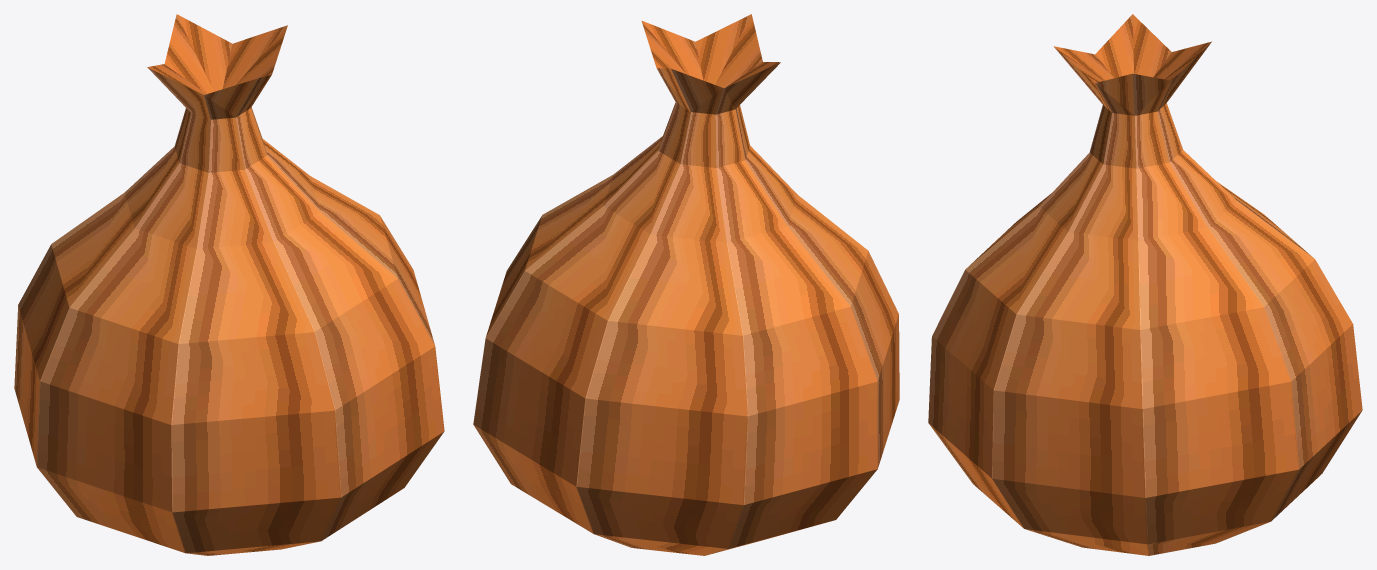
The model's file is Onion.obj.
3 views of the same model, side by side, from view 1: azimuth 30°, elevation 25°; view 2: azimuth 150°, elevation 25°; view 3: azimuth 270°, elevation 25° (orthographic). The views are drawn at different scales.
Visible parts, largest first — view 1: Inst3D10_RefRep.180; view 2: Inst3D10_RefRep.180; view 3: Inst3D10_RefRep.180.
Part boxes in pixels (box(x1,y1,x2,y2)): Inst3D10_RefRep.180: box(14, 14, 444, 555); Inst3D10_RefRep.180: box(473, 14, 899, 555); Inst3D10_RefRep.180: box(928, 14, 1362, 555).
Size of the model in its own units: 3.88 by 4.81 by 3.88.
